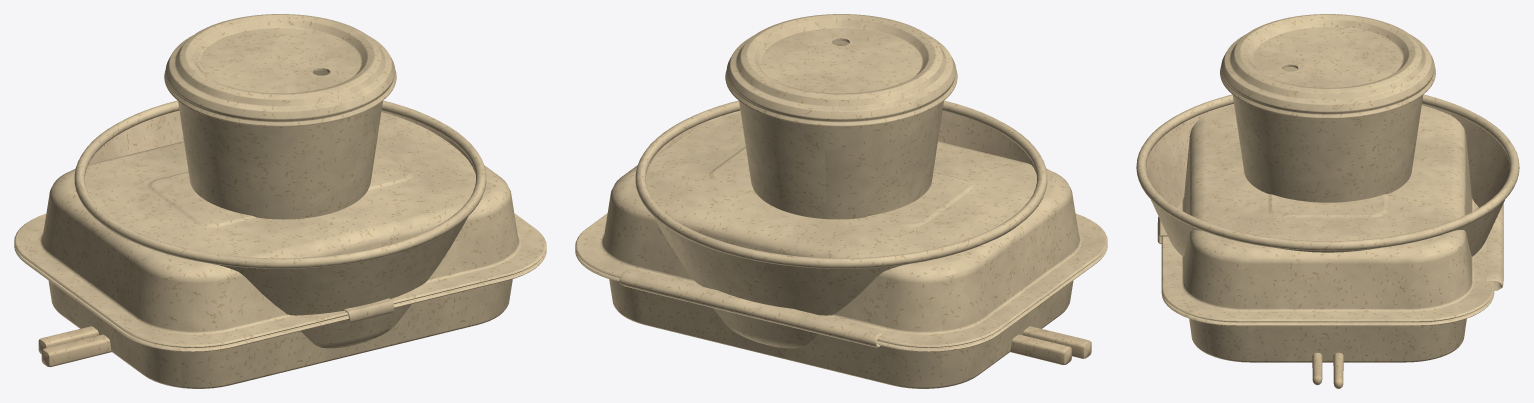
File: packaging.glb
The picture shows the model from 3 angles, left to right: view 1: azimuth 30°, elevation 25°; view 2: azimuth 150°, elevation 25°; view 3: azimuth 270°, elevation 25°; orthographic projection. The views are drawn at different scales.
Visible parts, largest first — view 1: box, cup, bowl, chopsticks; view 2: box, cup, bowl, chopsticks; view 3: box, cup, bowl, chopsticks.
Boxes of the visible parts, box(x1,y1,x2,y2) form: box: box(14, 112, 546, 388); cup: box(164, 14, 396, 219); bowl: box(74, 100, 486, 348); chopsticks: box(38, 326, 111, 367); box: box(575, 112, 1107, 388); cup: box(725, 14, 957, 219); bowl: box(635, 100, 1047, 348); chopsticks: box(1010, 326, 1091, 364); box: box(1157, 105, 1503, 362); cup: box(1220, 14, 1435, 202); bowl: box(1136, 94, 1519, 256); chopsticks: box(1312, 352, 1343, 388).
Bounding box in the file's own units: 0.234 × 0.1146 × 0.1724.
Materials: 5 (5 with a texture image).
